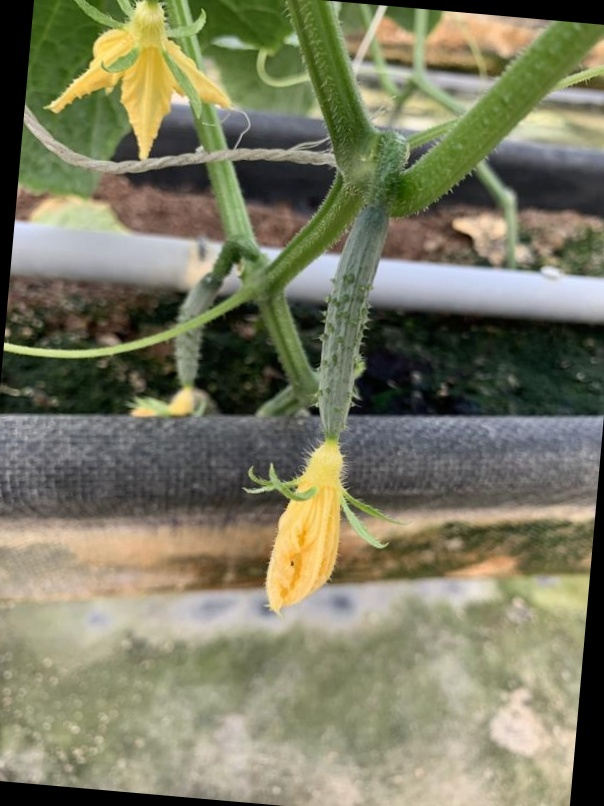bear: (245, 207, 407, 613)
